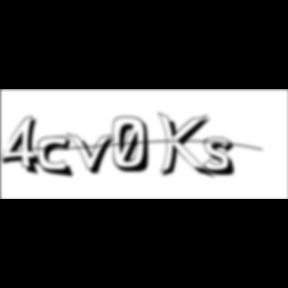0: (112, 115, 158, 174)
4: (0, 115, 48, 179)
K: (158, 110, 216, 182)
c: (38, 136, 78, 180)
s: (204, 137, 243, 179)
v: (67, 131, 121, 177)
